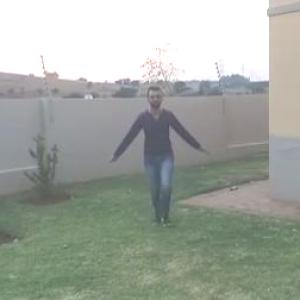land: (109, 87, 208, 228)
